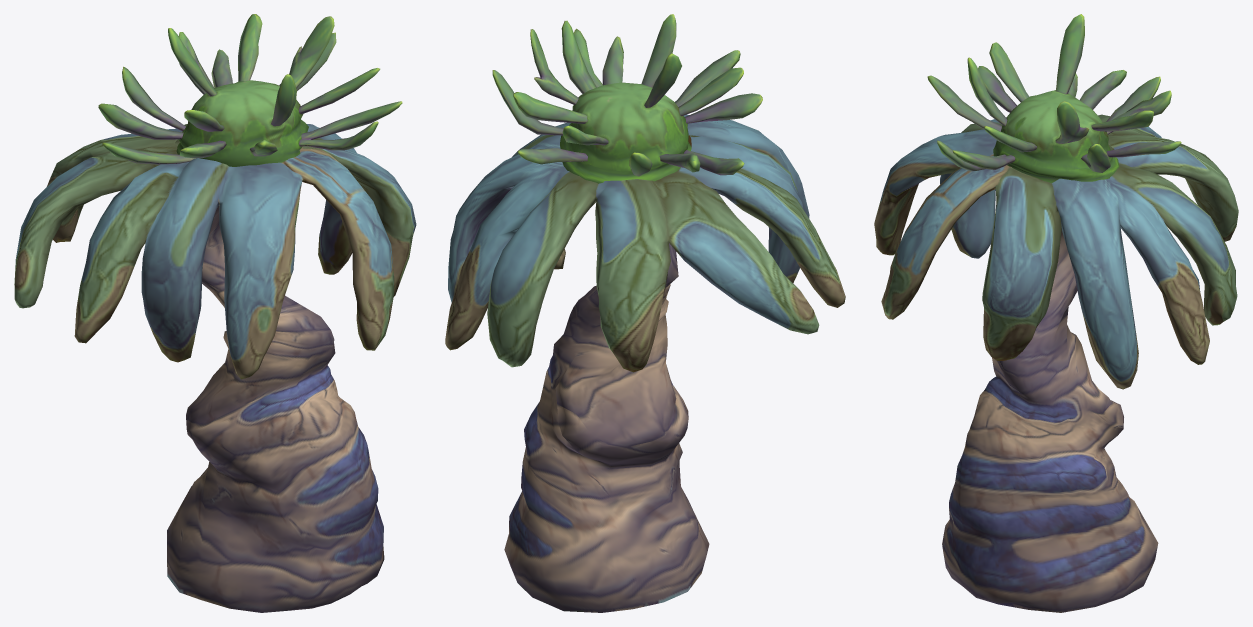
File: VegetationMedium03_02.fbx
3 views of the same model, side by side, from view 1: azimuth 30°, elevation 25°; view 2: azimuth 150°, elevation 25°; view 3: azimuth 270°, elevation 25° (orthographic). The views are drawn at different scales.
Parts seen in each view (by area): view 1: VegetationMedium03_02_LOD01; view 2: VegetationMedium03_02_LOD01; view 3: VegetationMedium03_02_LOD01.
Part boxes in pixels (x1=…): VegetationMedium03_02_LOD01: x1=14, y1=14, x2=416, y2=612; VegetationMedium03_02_LOD01: x1=445, y1=14, x2=845, y2=612; VegetationMedium03_02_LOD01: x1=874, y1=14, x2=1238, y2=612.
Size of the model in its own units: 241 by 357 by 225.
